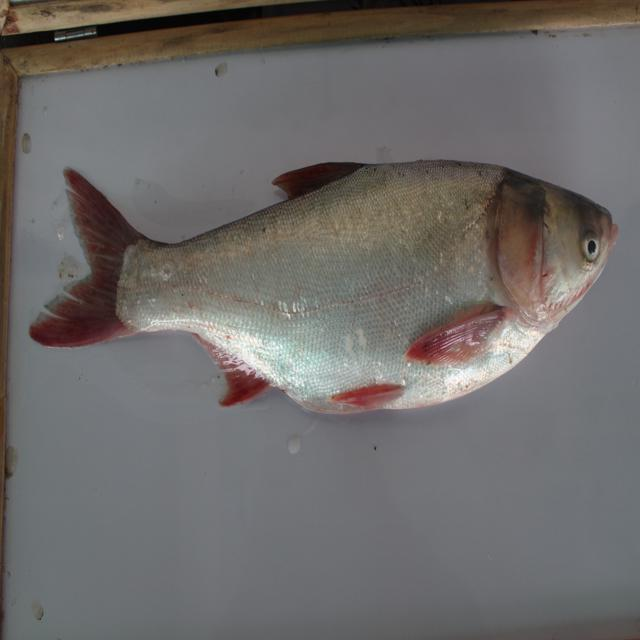SilverCarp: (34, 134, 605, 416)
